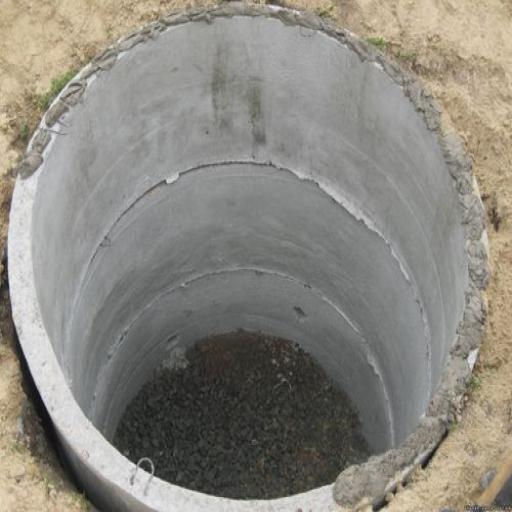construction_fence: (10, 2, 488, 510)
